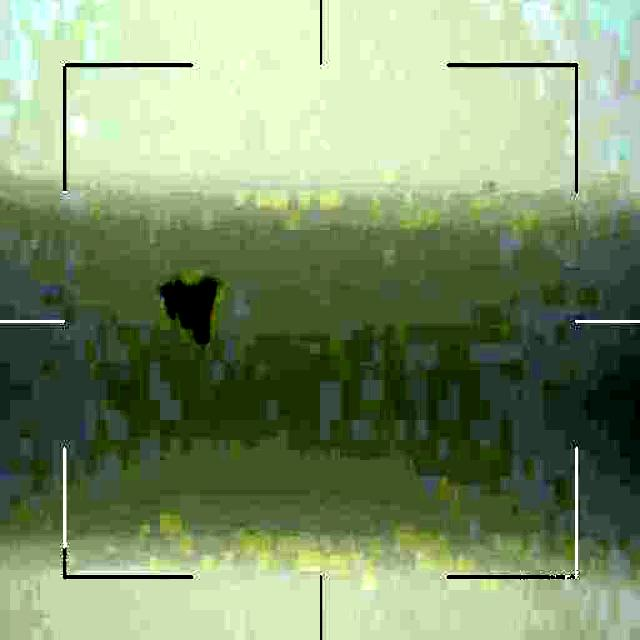bird: (151, 268, 221, 348)
